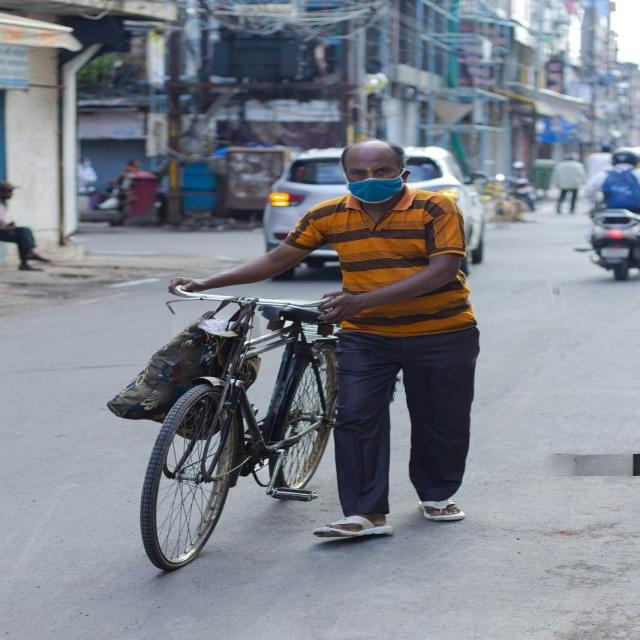bicycle: (141, 285, 337, 570)
motorcycle: (585, 148, 640, 280)
